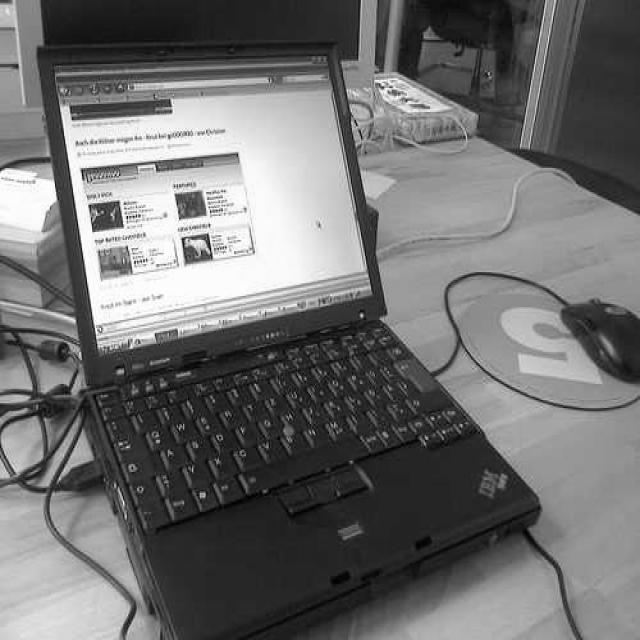laptop: (57, 43, 520, 608)
